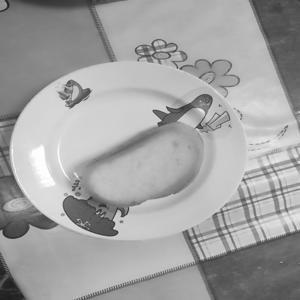bread: (53, 101, 220, 218)
